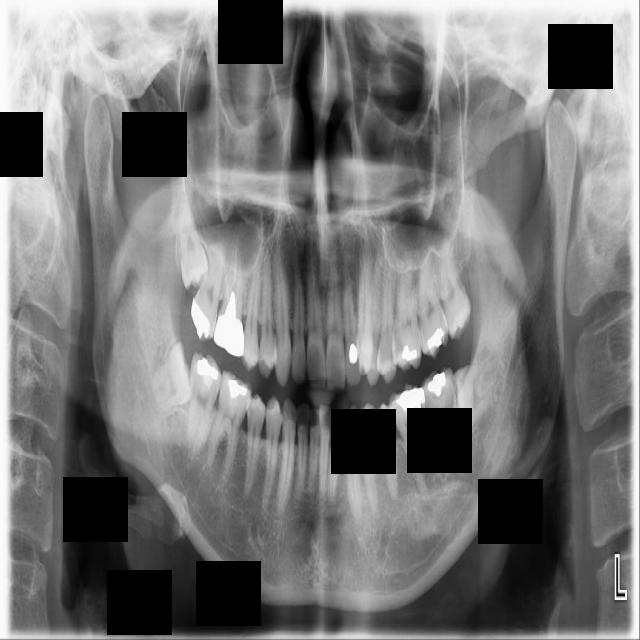3M ESPE Implant: (176, 191, 210, 290)
52: (414, 365, 466, 423), (410, 312, 462, 362), (186, 287, 223, 344), (184, 351, 226, 400), (216, 369, 254, 420), (389, 382, 425, 435), (215, 312, 245, 358), (391, 331, 422, 372), (344, 339, 360, 383)
73: (219, 238, 245, 320), (600, 557, 608, 582)
BioHorizons Implant: (418, 256, 449, 359)
BioLife Implant: (434, 236, 475, 342)
Biomet 3i Implant: (449, 358, 497, 435)
Blue Sky Bio Implant: (417, 367, 467, 477)
Caries: (186, 240, 229, 344)
Implant: (185, 352, 223, 448)
Keystone Dental Implant: (139, 340, 201, 415)
